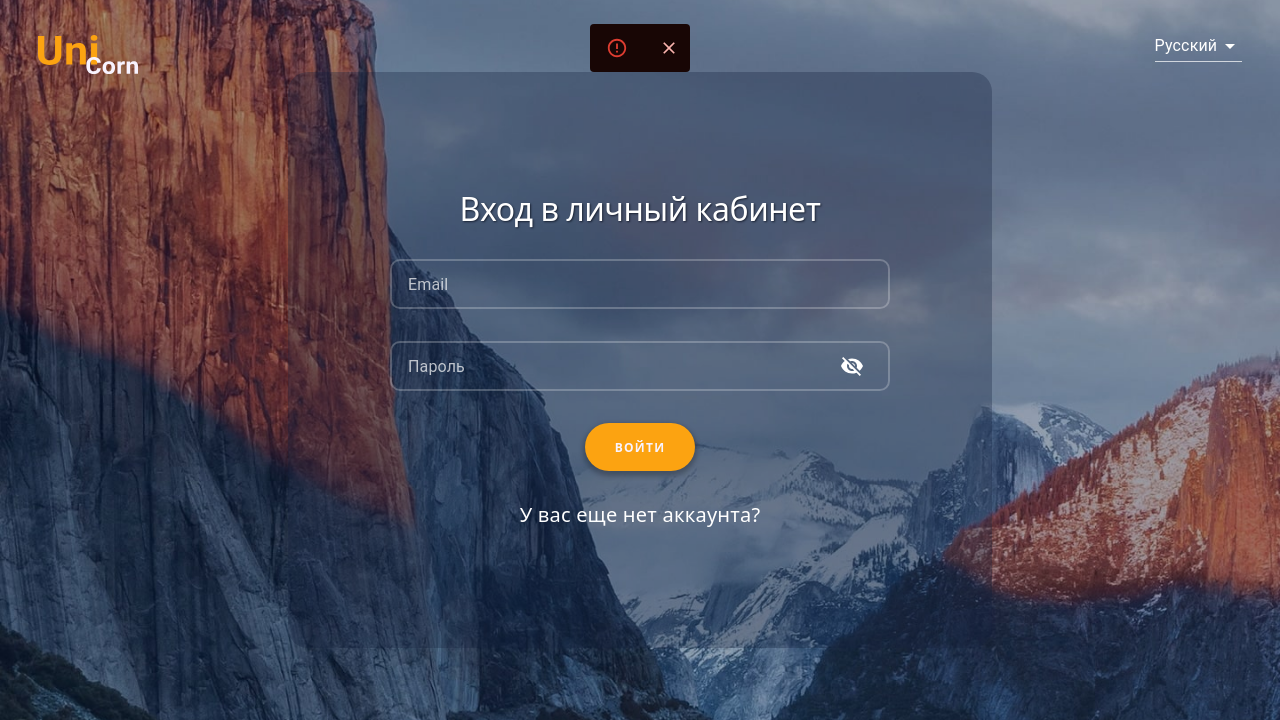
Login page › This happens when you enter short password
Type "hello@cypress.io" into the element with test id "login-email". click: (640, 284)
box: [390, 259, 890, 309]
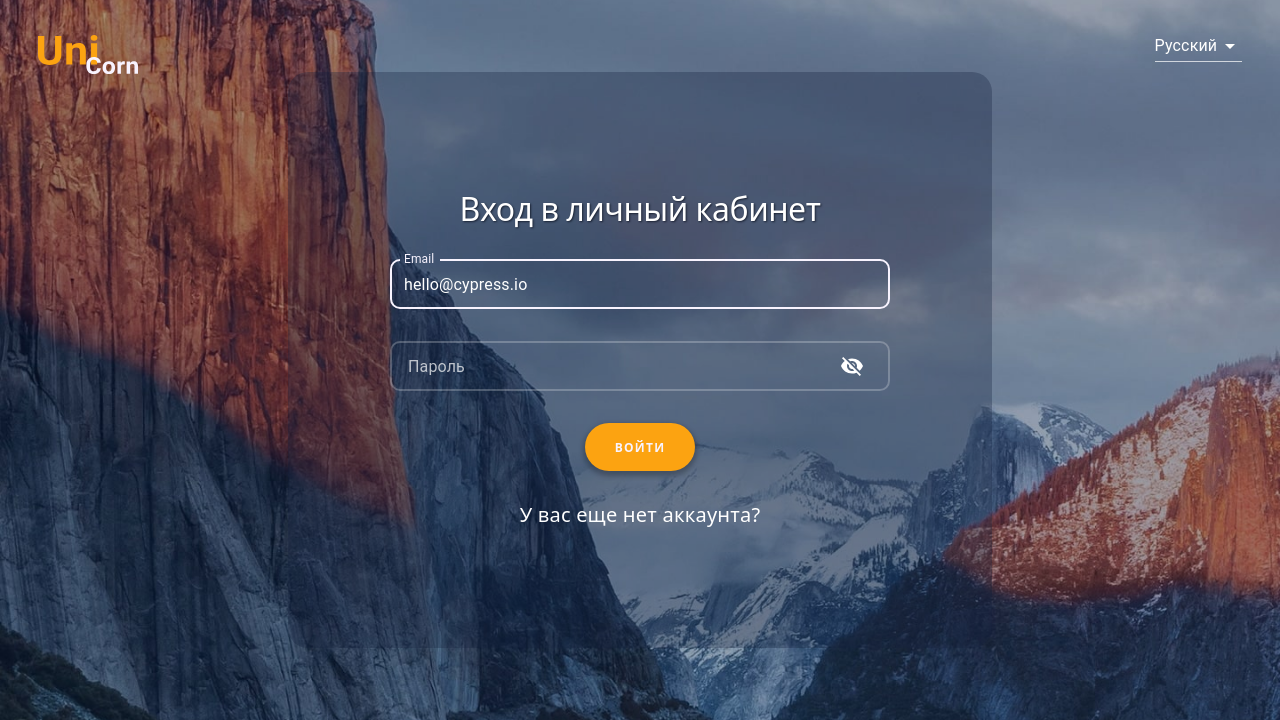
Type "dummy" into the element with test id "password". click: (640, 366)
box: [390, 341, 890, 391]
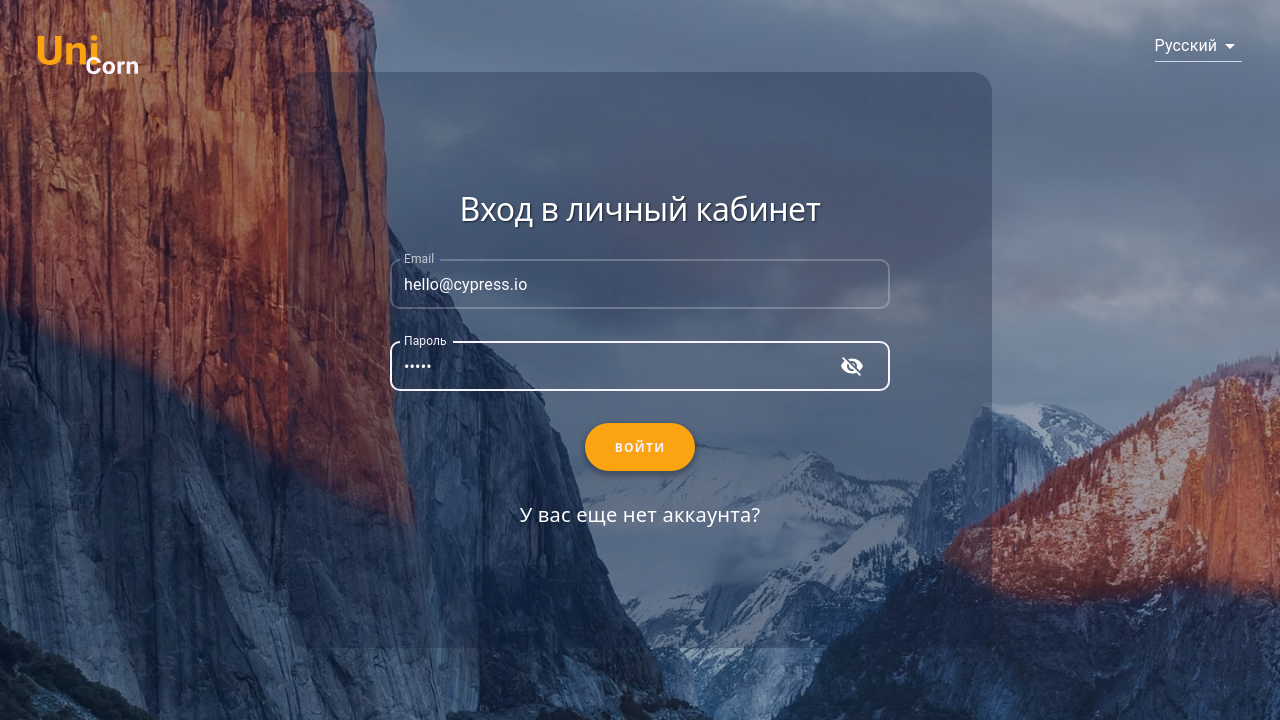
Click the button with test id "login-button". click: (641, 447)
box: [585, 423, 696, 471]
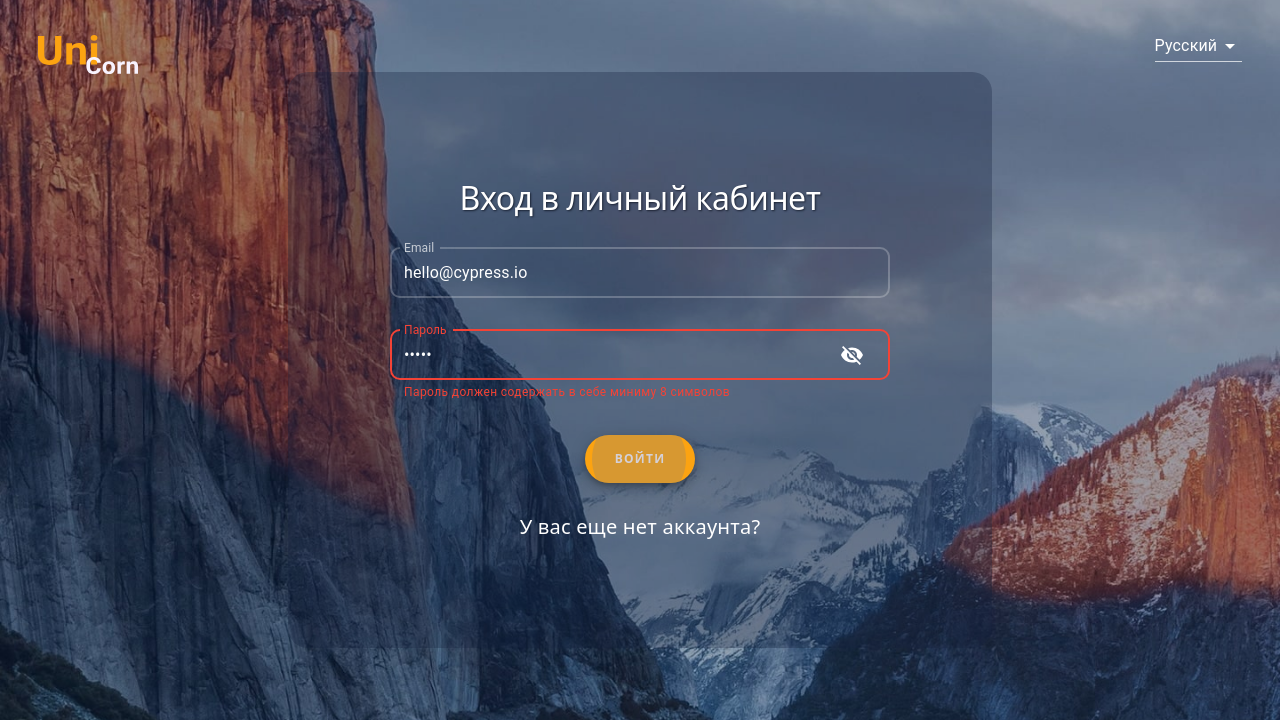
Now the text "Пароль должен содержать в себе миниму 8 символов" is shown, box [404, 385, 730, 399]
